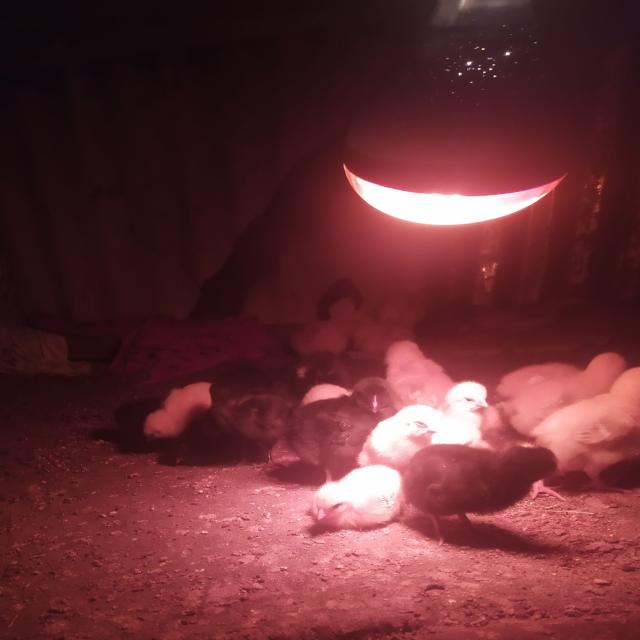chick: (404, 441, 565, 547), (498, 352, 640, 459), (529, 366, 640, 492), (286, 376, 397, 490), (175, 373, 297, 475), (356, 398, 443, 499), (485, 361, 612, 418), (383, 334, 461, 425), (313, 464, 405, 532), (141, 381, 231, 450), (438, 381, 494, 476), (284, 316, 348, 360), (329, 294, 379, 336), (346, 327, 397, 362), (381, 305, 417, 346), (369, 374, 370, 376)
